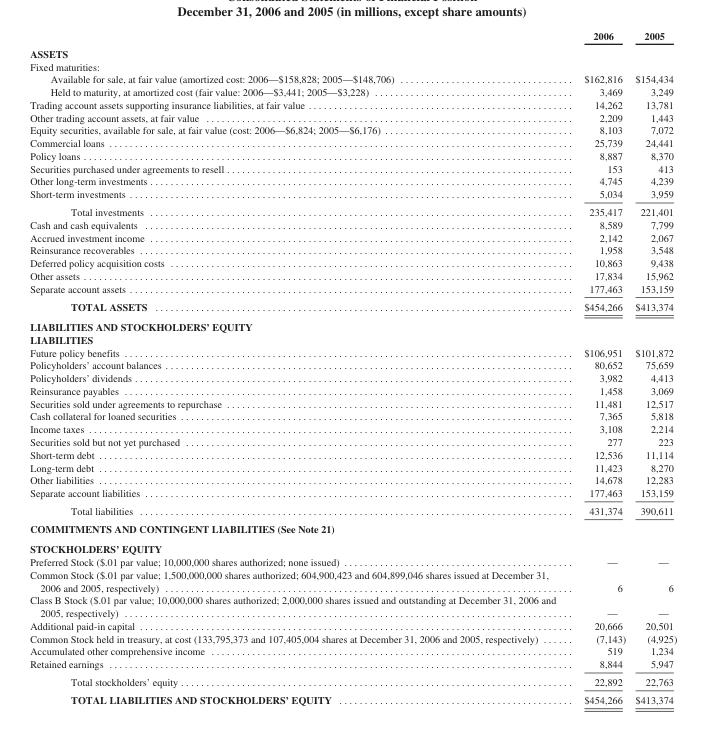table: (29, 29, 676, 705)
table column: (29, 29, 569, 705), (569, 29, 629, 705), (629, 29, 676, 705)
table column header: (29, 29, 676, 44)
table projected row header: (29, 519, 676, 538), (29, 538, 676, 555), (29, 316, 676, 332), (29, 44, 676, 59), (29, 59, 676, 72), (29, 332, 676, 345)
table row: (29, 567, 676, 593), (29, 593, 676, 619), (29, 297, 676, 316), (29, 519, 676, 538), (29, 501, 676, 519), (29, 672, 676, 690), (29, 538, 676, 555), (29, 202, 676, 218), (29, 281, 676, 297), (29, 316, 676, 332), (29, 29, 676, 44), (29, 44, 676, 59), (29, 187, 676, 202), (29, 486, 676, 501), (29, 657, 676, 672), (29, 690, 676, 705), (29, 59, 676, 72), (29, 72, 676, 85), (29, 97, 676, 110), (29, 110, 676, 123), (29, 123, 676, 136), (29, 136, 676, 149), (29, 161, 676, 174), (29, 174, 676, 187), (29, 230, 676, 243), (29, 243, 676, 256), (29, 256, 676, 269), (29, 332, 676, 345), (29, 345, 676, 358), (29, 358, 676, 371), (29, 371, 676, 384), (29, 396, 676, 409), (29, 409, 676, 422), (29, 422, 676, 435), (29, 447, 676, 460), (29, 460, 676, 473), (29, 473, 676, 486), (29, 631, 676, 644), (29, 644, 676, 657), (29, 85, 676, 97), (29, 149, 676, 161), (29, 218, 676, 230), (29, 269, 676, 281), (29, 384, 676, 396), (29, 435, 676, 447), (29, 555, 676, 567), (29, 619, 676, 631)
